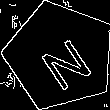N_NW: (28, 24, 91, 88)
